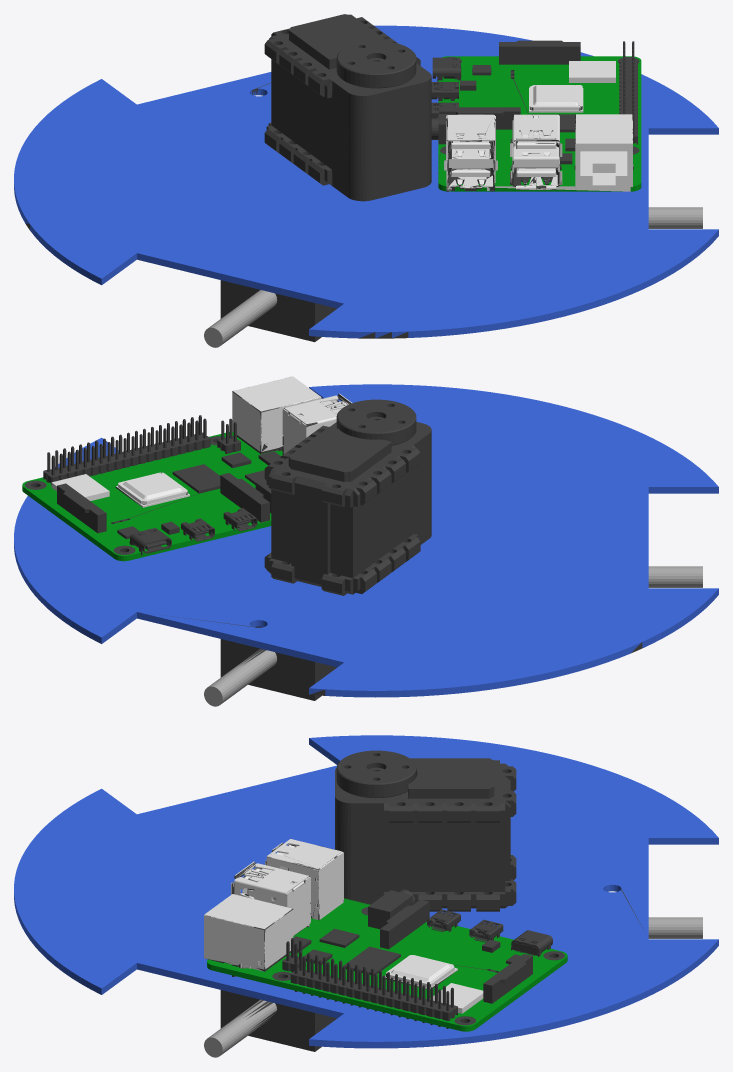
The model's file is omni_wheel_body.dae.
3 renders of one model, top to bottom at view 1: azimuth 30°, elevation 25°; view 2: azimuth 150°, elevation 25°; view 3: azimuth 270°, elevation 25°, orthographic.
Parts seen in each view (by area): view 1: Omni Frame Assy For Model; view 2: Omni Frame Assy For Model; view 3: Omni Frame Assy For Model.
Boxes of the visible parts, <box> form: Omni Frame Assy For Model: <box>14,14,718,347</box>; Omni Frame Assy For Model: <box>14,376,718,706</box>; Omni Frame Assy For Model: <box>14,735,718,1057</box>.
Bounding box in the file's own units: 0.2 × 0.1944 × 0.059.
